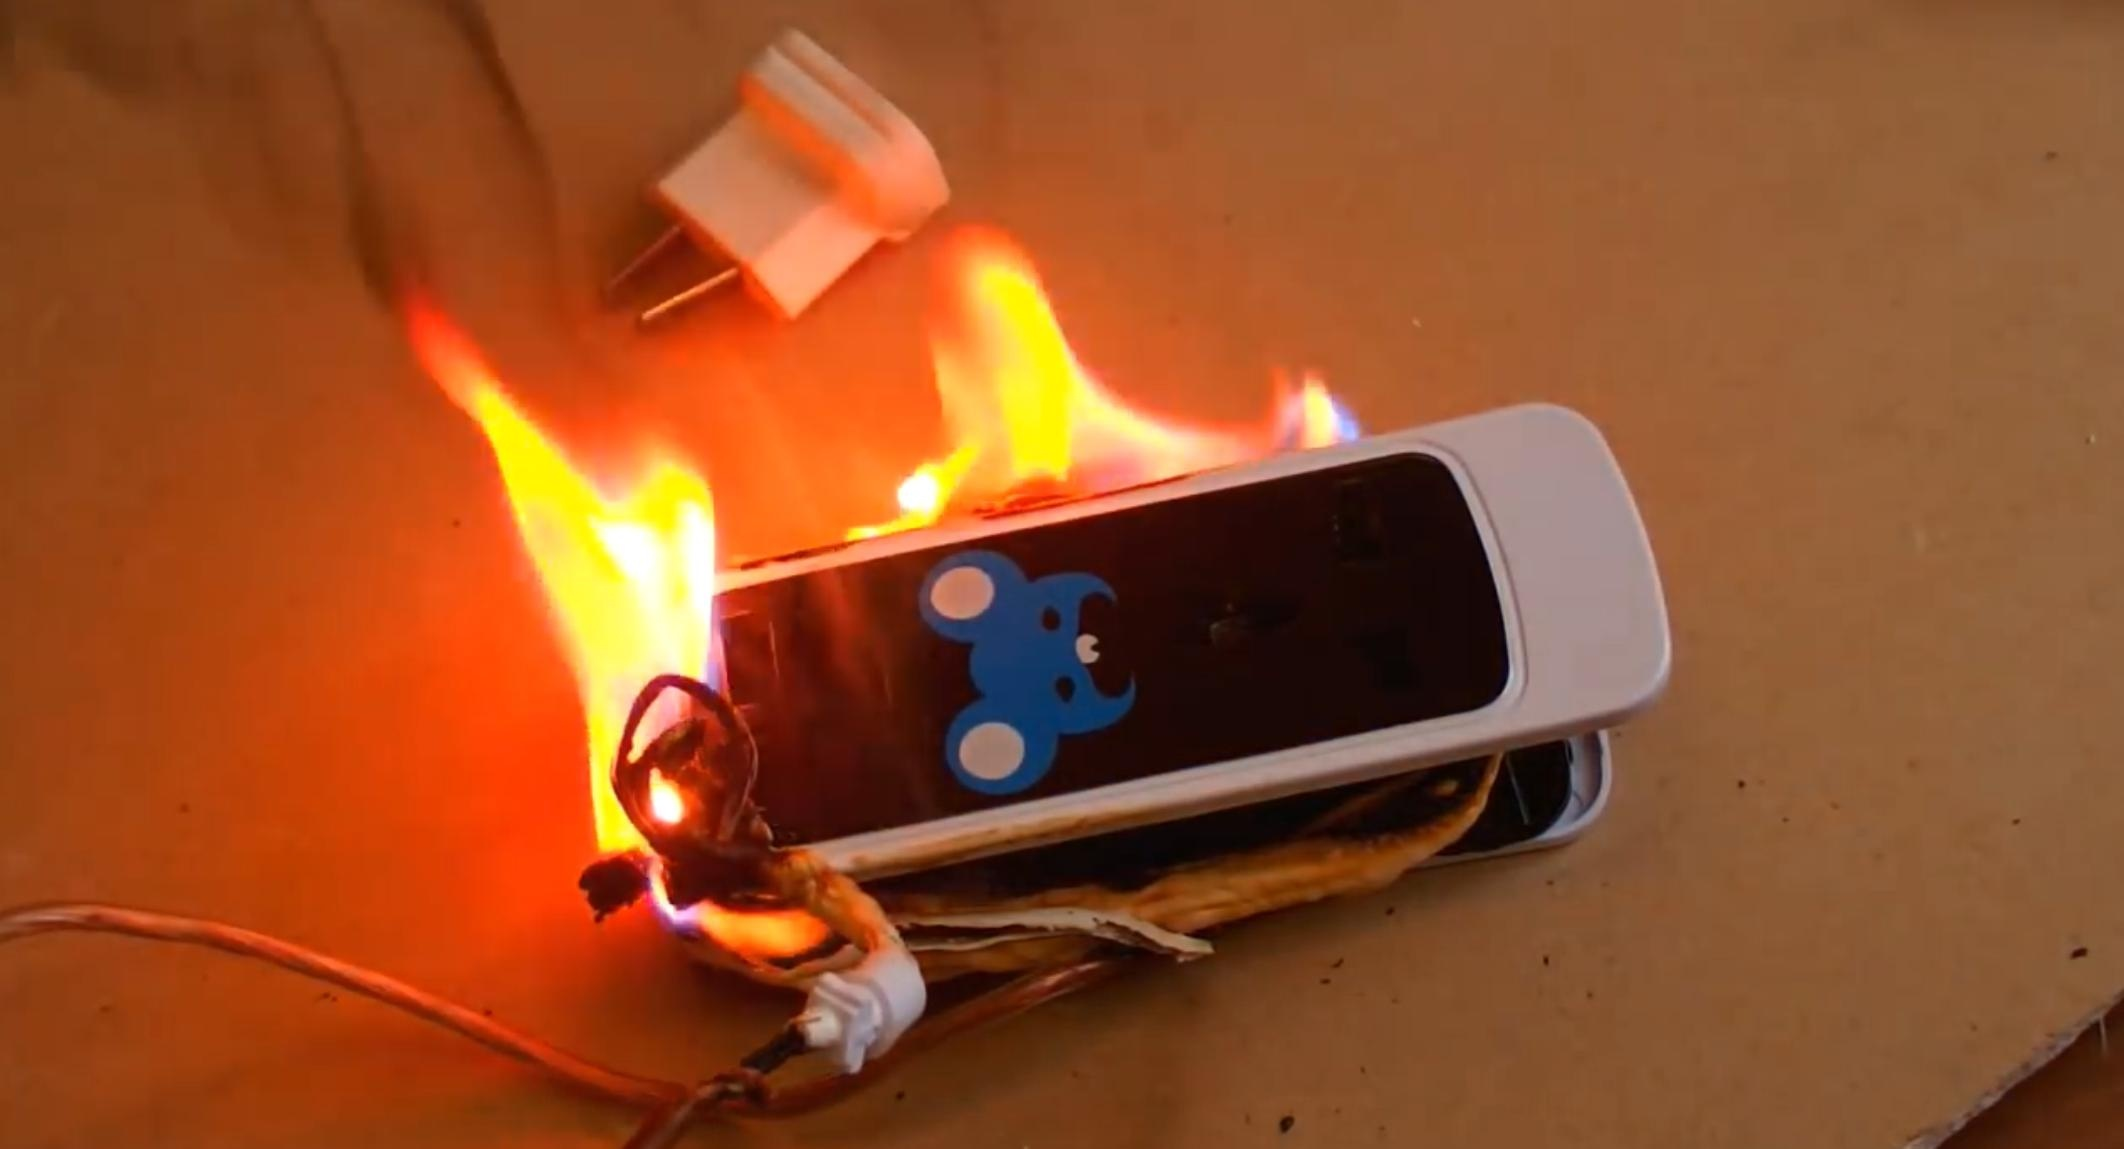fire: (422, 299, 734, 906), (865, 238, 1351, 524)
